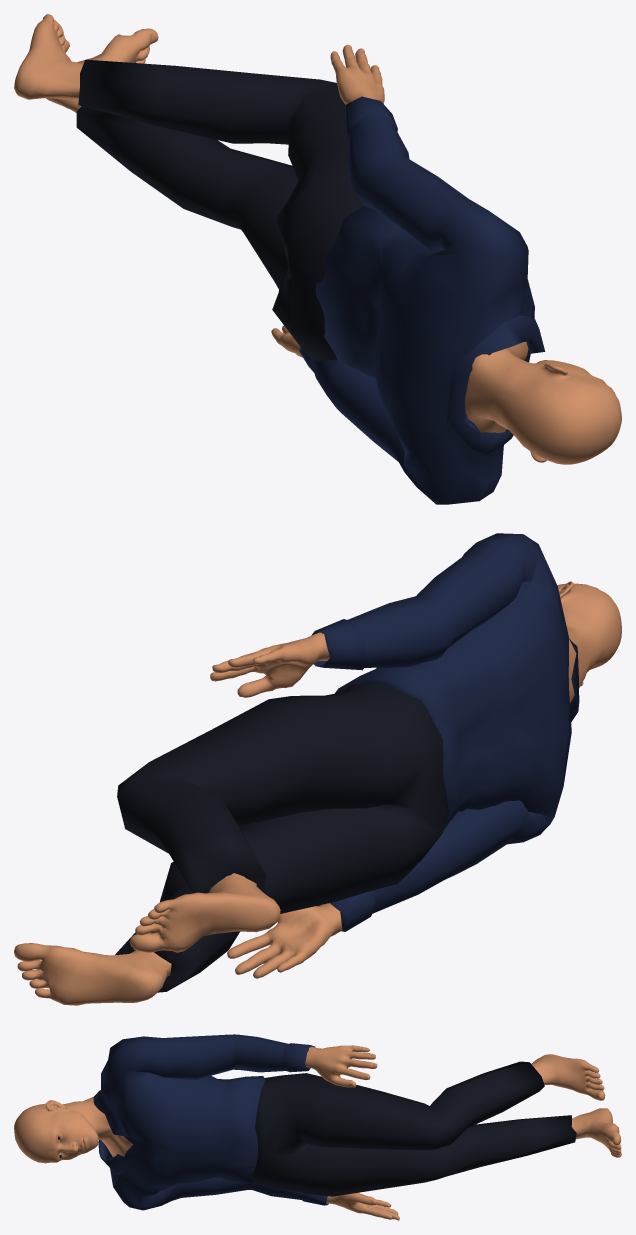
Rendered from walk.obj.
3 renders of one model, top to bottom at view 1: azimuth 30°, elevation 25°; view 2: azimuth 150°, elevation 25°; view 3: azimuth 270°, elevation 25°, orthographic. The views are drawn at different scales.
Size of the model in its own units: 0.4803 by 0.5472 by 1.7.
